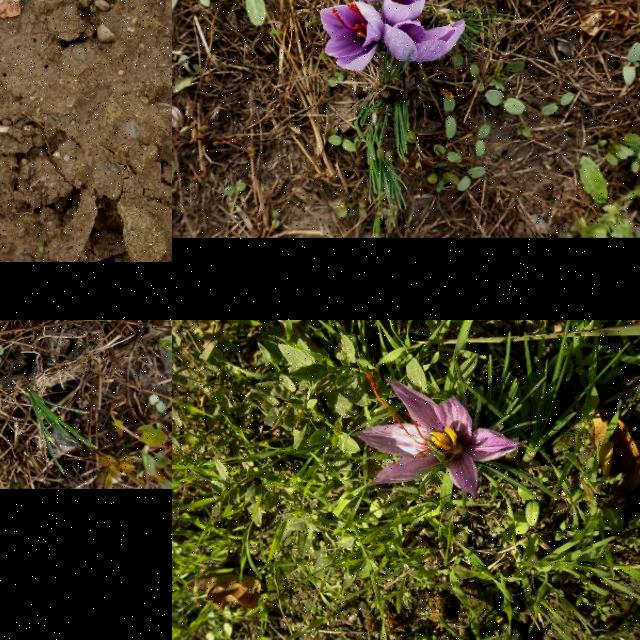flower: (351, 374, 529, 500), (321, 4, 385, 70), (382, 19, 464, 65), (381, 0, 427, 21)
